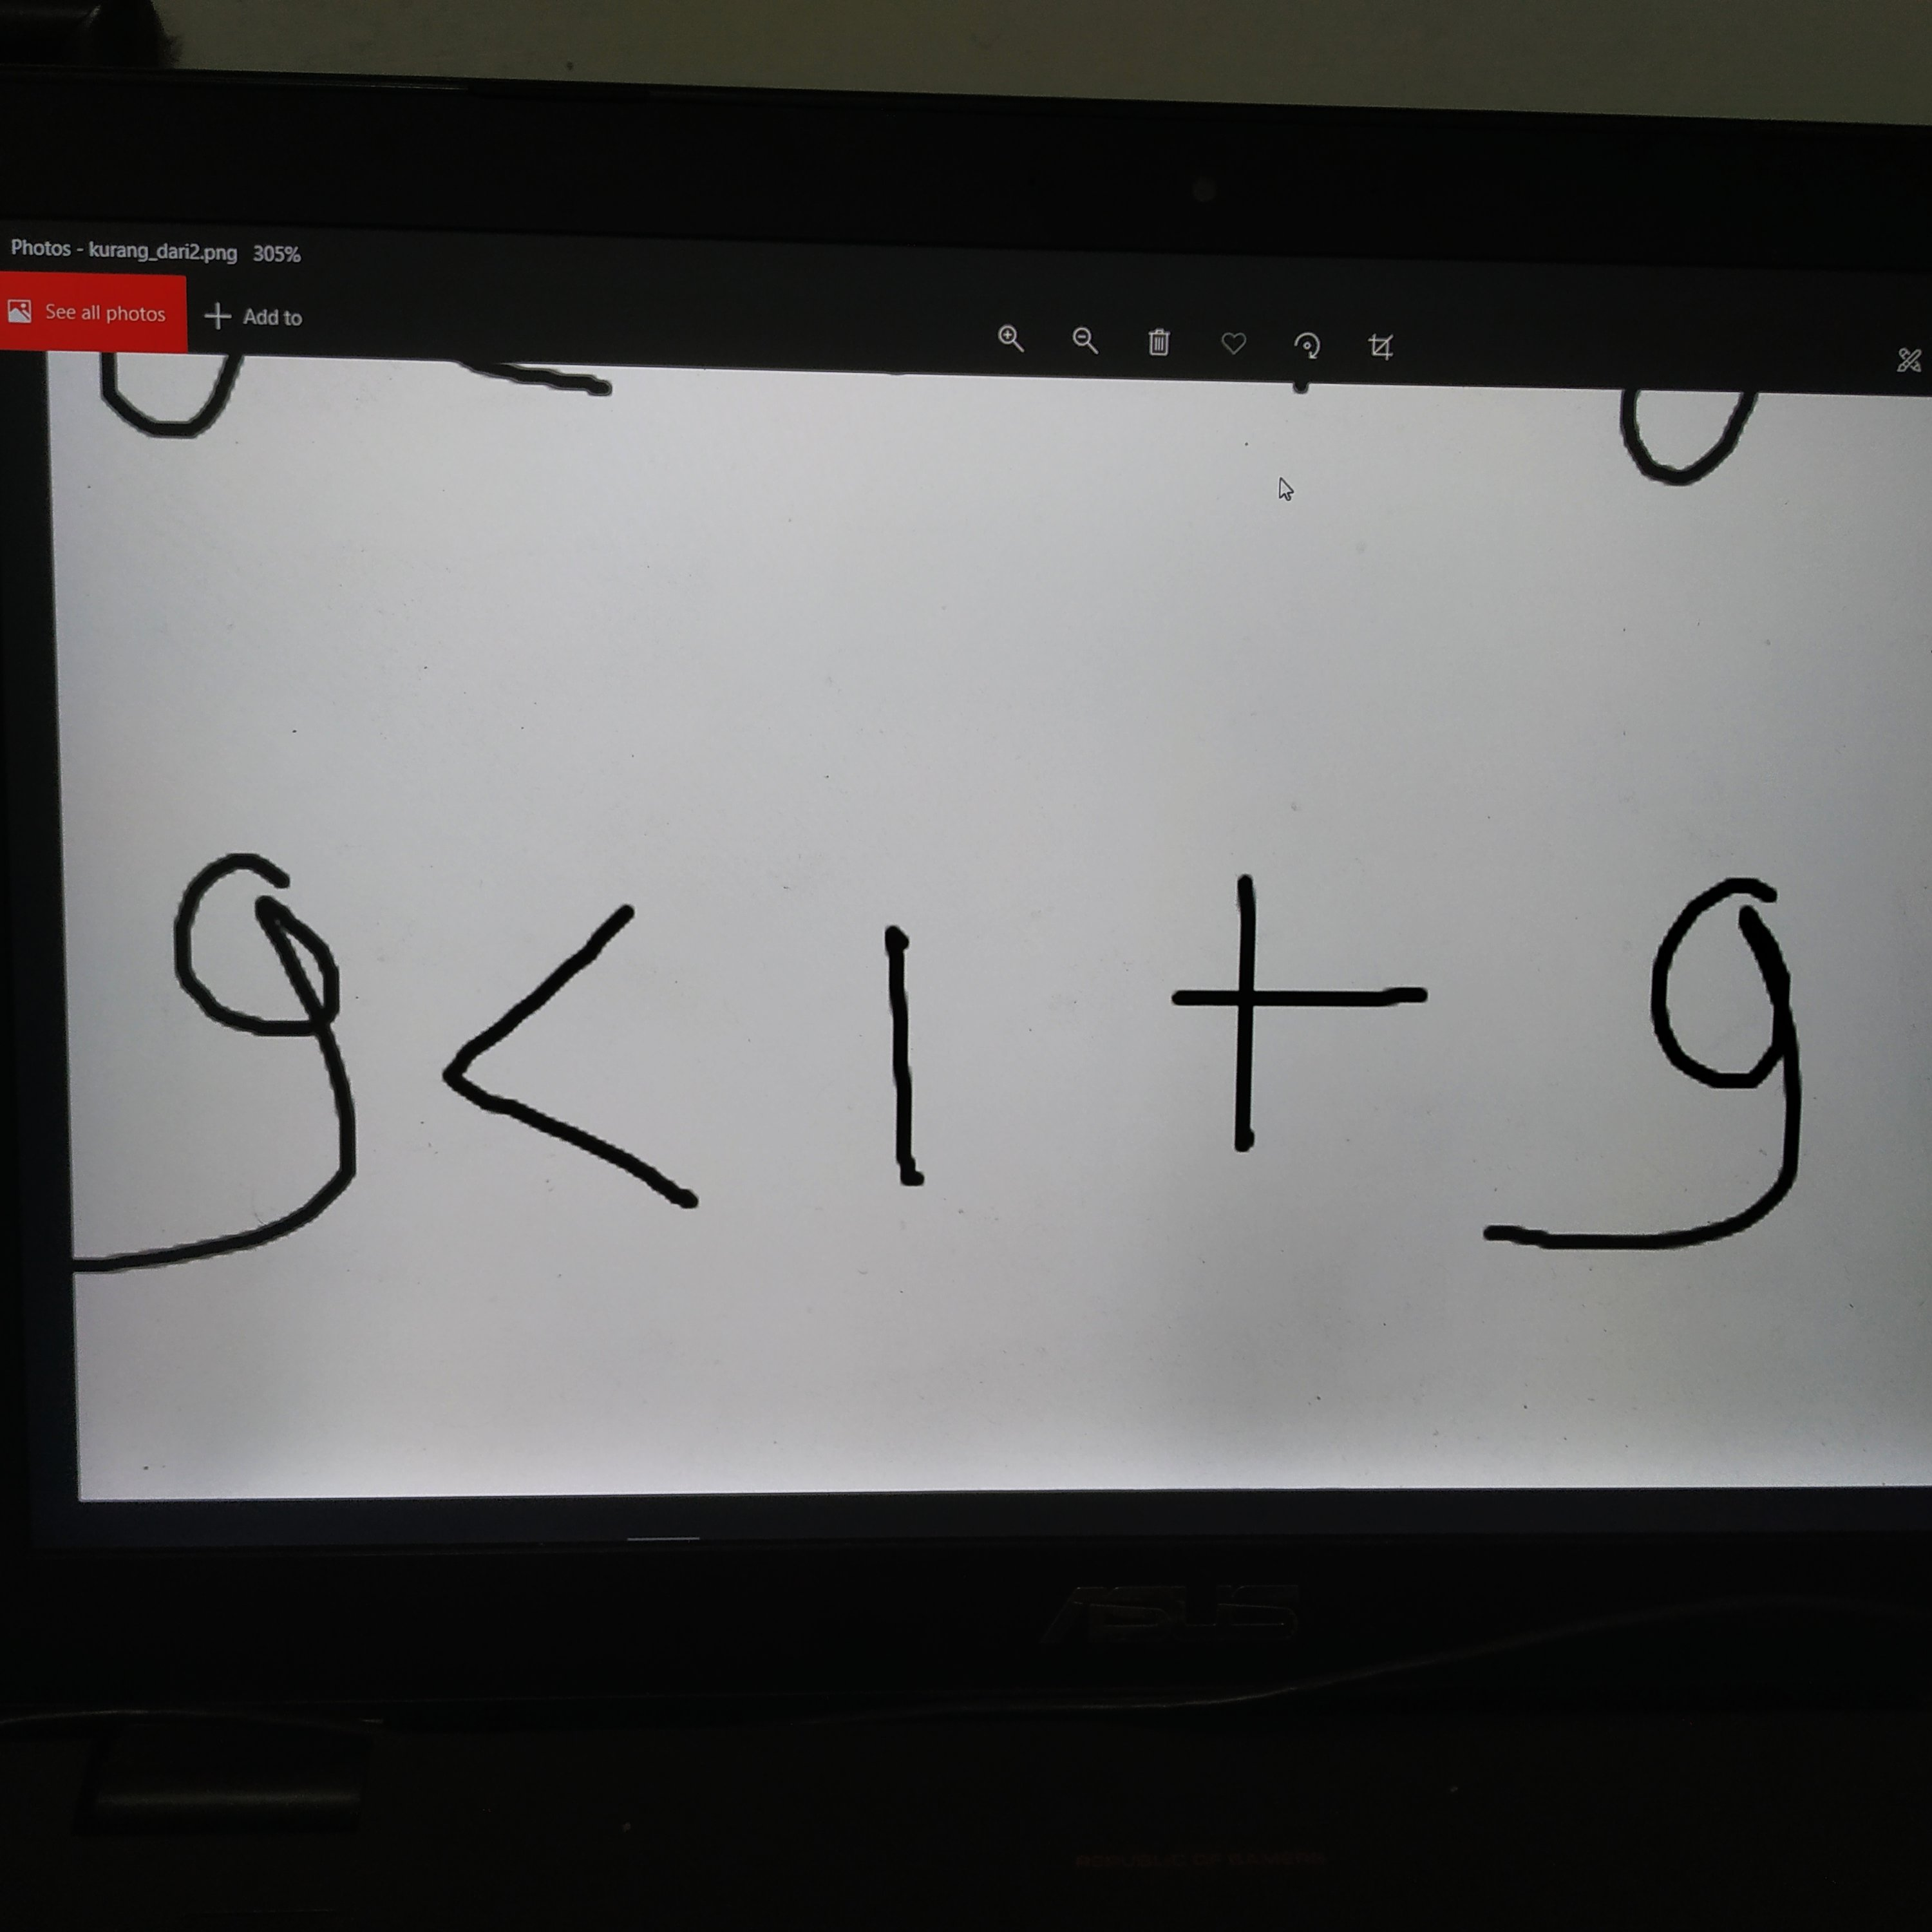lessthan: (428, 885, 758, 1225)
num1: (859, 909, 988, 1217)
num9: (1466, 840, 1859, 1293), (63, 833, 393, 1287)
sum: (1156, 852, 1453, 1176)
